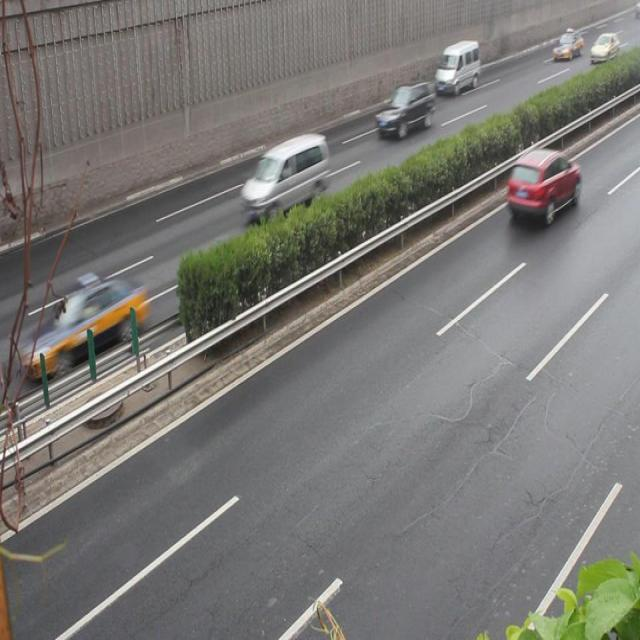car: (27, 274, 146, 378), (503, 148, 578, 222), (374, 81, 430, 134)
